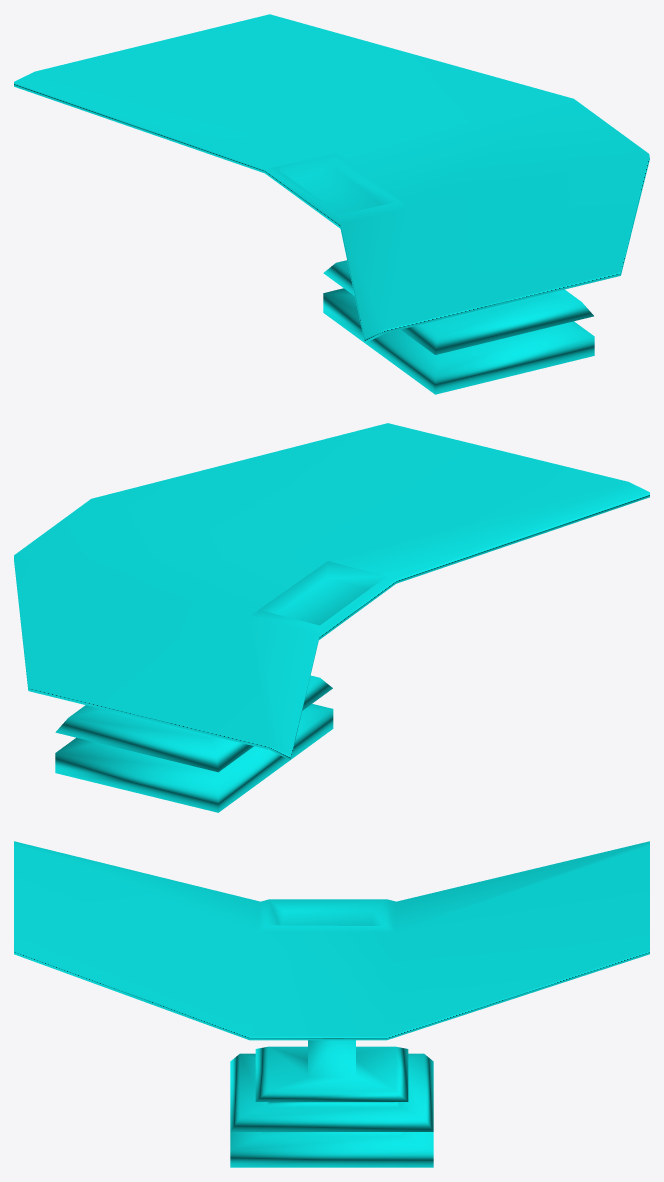
Rendered from mdl_Corredor_Mesa_U.fbx.
3 views of the same model, one above another, from view 1: azimuth 30°, elevation 25°; view 2: azimuth 150°, elevation 25°; view 3: azimuth 270°, elevation 25° (orthographic). The views are drawn at different scales.
Parts seen in each view (by area): view 1: mdl_Corredor_Mesa_U; view 2: mdl_Corredor_Mesa_U; view 3: mdl_Corredor_Mesa_U.
Boxes of the visible parts, x1,y1,x2,y2 form: mdl_Corredor_Mesa_U: (14,14,649,394); mdl_Corredor_Mesa_U: (14,423,649,812); mdl_Corredor_Mesa_U: (14,841,649,1167).
Bounding box in the file's own units: 2.52 × 1.13 × 3.68.
